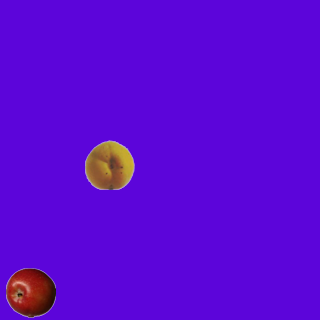Apple Braeburn: (5, 267, 55, 317)
Peach 2: (84, 139, 134, 189)
